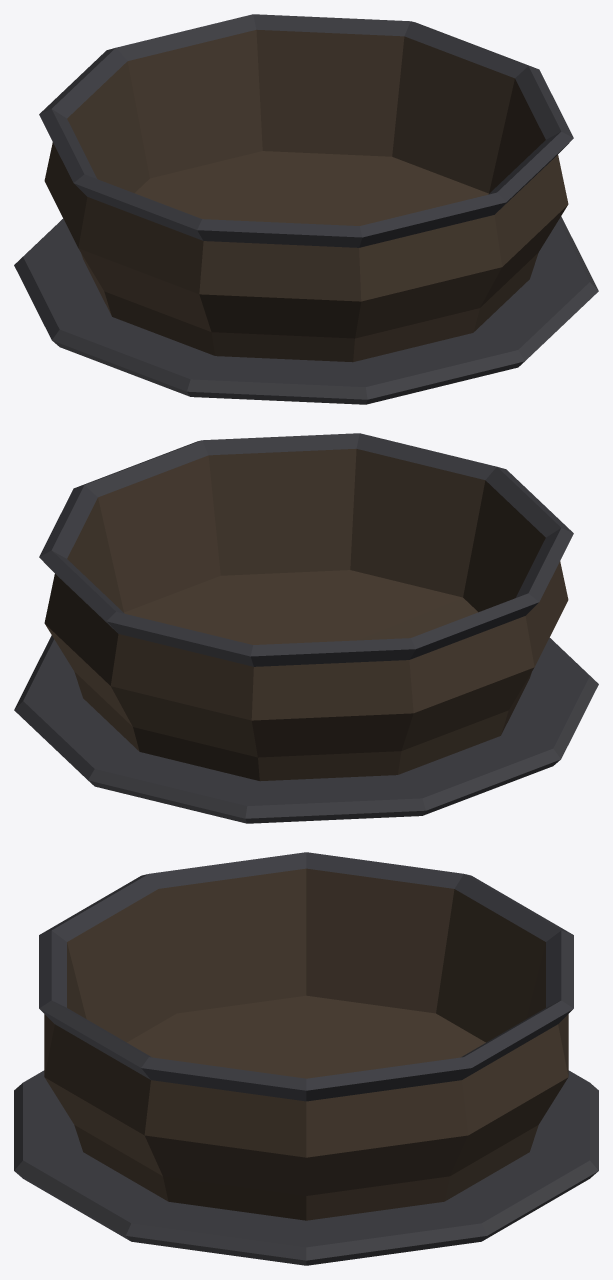
Rendered from Bowl_2.fbx.
3 views of the same model, one above another, from view 1: azimuth 30°, elevation 25°; view 2: azimuth 150°, elevation 25°; view 3: azimuth 270°, elevation 25° (orthographic). The views are drawn at different scales.
Visible parts, largest first — view 1: pCylinder275; view 2: pCylinder275; view 3: pCylinder275.
Boxes of the visible parts, x1,y1,x2,y2 form: pCylinder275: (14, 14, 598, 404); pCylinder275: (14, 433, 598, 823); pCylinder275: (14, 852, 598, 1265).
Bounding box in the file's own units: 23.83 × 7.46 × 22.67.
